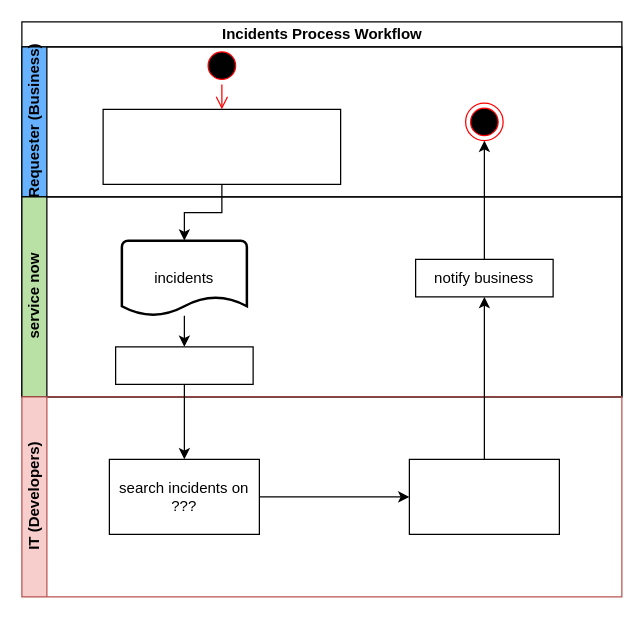
Image size: 644x619. Some labels were removed from this diagram. The shapes that lost their labels are listed below. From the top down, each one's centre as x and y in pixels, then its label:
At (221,146): "create incident on service now".
At (183,365): "notify IT".
At (483,496): "fix incidents".
